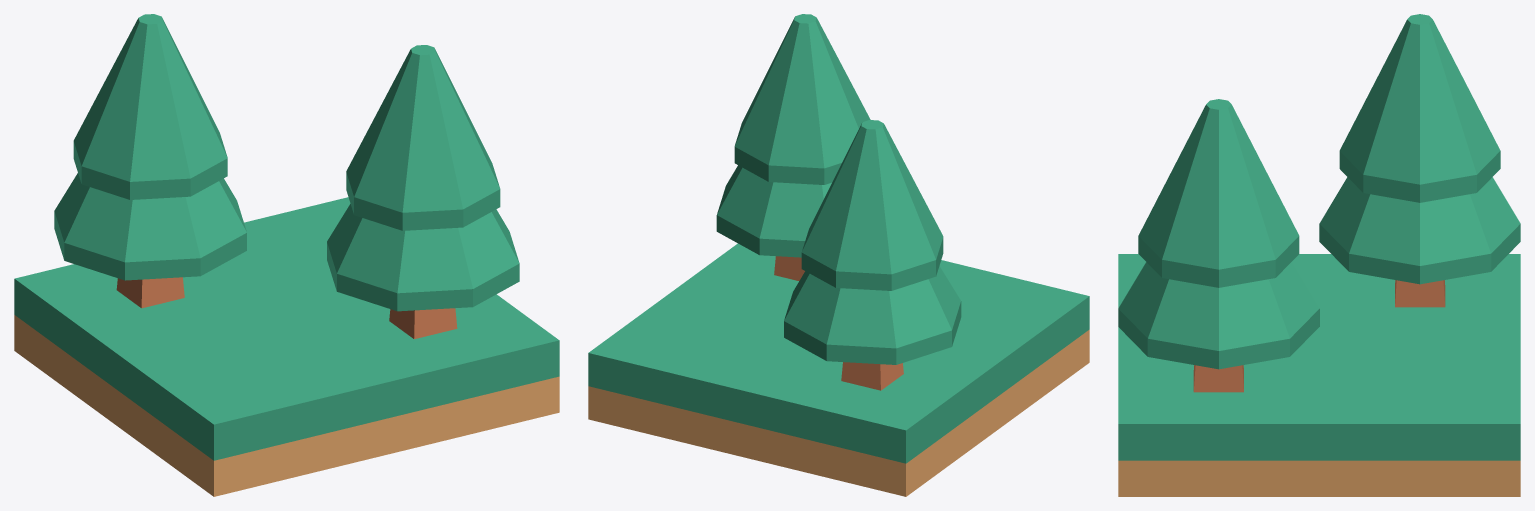
Rendered from tile_treeDouble.dae.
3 renders of one model, left to right at view 1: azimuth 30°, elevation 25°; view 2: azimuth 150°, elevation 25°; view 3: azimuth 270°, elevation 25°, orthographic. The views are drawn at different scales.
Parts seen in each view (by area): view 1: tile_treeDouble, tree (×2); view 2: tile_treeDouble, tree (×2); view 3: tile_treeDouble, tree (×2).
Part boxes in pixels (x1=…): tile_treeDouble: x1=14, y1=197, x2=559, y2=496; tree (×2): x1=54, y1=14, x2=519, y2=339; tile_treeDouble: x1=588, y1=243, x2=1089, y2=496; tree (×2): x1=716, y1=14, x2=961, y2=390; tile_treeDouble: x1=1118, y1=254, x2=1520, y2=496; tree (×2): x1=1118, y1=14, x2=1520, y2=392.
Bounding box in the file's own units: 1 × 0.96 × 1.
